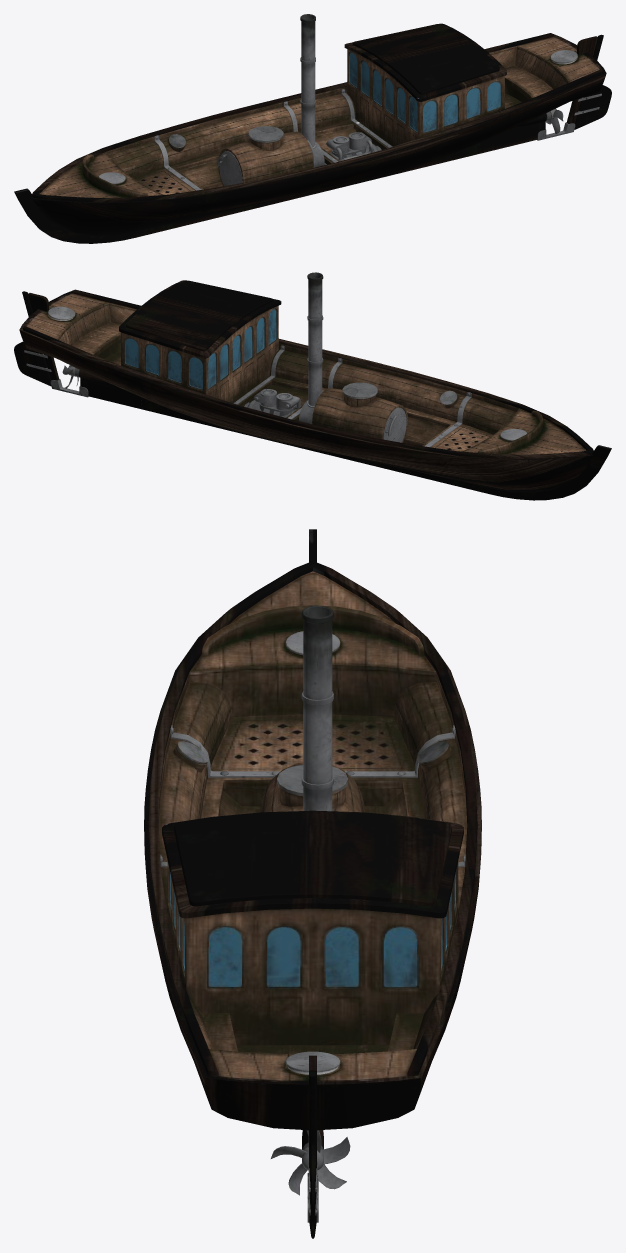
3 views of the same model, one above another, from view 1: azimuth 30°, elevation 25°; view 2: azimuth 150°, elevation 25°; view 3: azimuth 270°, elevation 25° (orthographic). The views are drawn at different scales.
Parts seen in each view (by area): view 1: GO_Node_06, GO_Node_05, GO_Node_02, GO_Node_01, GO_Node_03, GO_Node_00, GO_Node_04, GO_Node_07; view 2: GO_Node_06, GO_Node_05, GO_Node_02, GO_Node_01, GO_Node_03, GO_Node_00, GO_Node_04, GO_Node_07; view 3: GO_Node_06, GO_Node_01, GO_Node_05, GO_Node_04, GO_Node_00, GO_Node_02, GO_Node_07, GO_Node_03.
Part boxes in pixels (x1,y1,x2,y2): GO_Node_06: (344,23,506,136); GO_Node_05: (483,33,611,152); GO_Node_02: (179,104,337,217); GO_Node_01: (89,124,258,240); GO_Node_03: (255,83,421,197); GO_Node_00: (14,154,150,243); GO_Node_04: (343,82,523,176); GO_Node_07: (300,14,315,118); GO_Node_06: (119,280,281,393); GO_Node_05: (14,289,142,409); GO_Node_02: (288,361,446,474); GO_Node_01: (367,381,536,497); GO_Node_03: (204,340,370,454); GO_Node_00: (475,410,611,500); GO_Node_04: (102,339,282,433); GO_Node_07: (307,272,323,377); GO_Node_06: (162,810,463,984); GO_Node_01: (150,644,475,815); GO_Node_05: (175,999,450,1238); GO_Node_04: (151,904,474,1053); GO_Node_00: (187,529,438,653); GO_Node_02: (144,749,481,837); GO_Node_07: (301,605,333,809); GO_Node_03: (144,807,481,920).
Size of the model in its own units: 5243 by 1487 by 1285.
